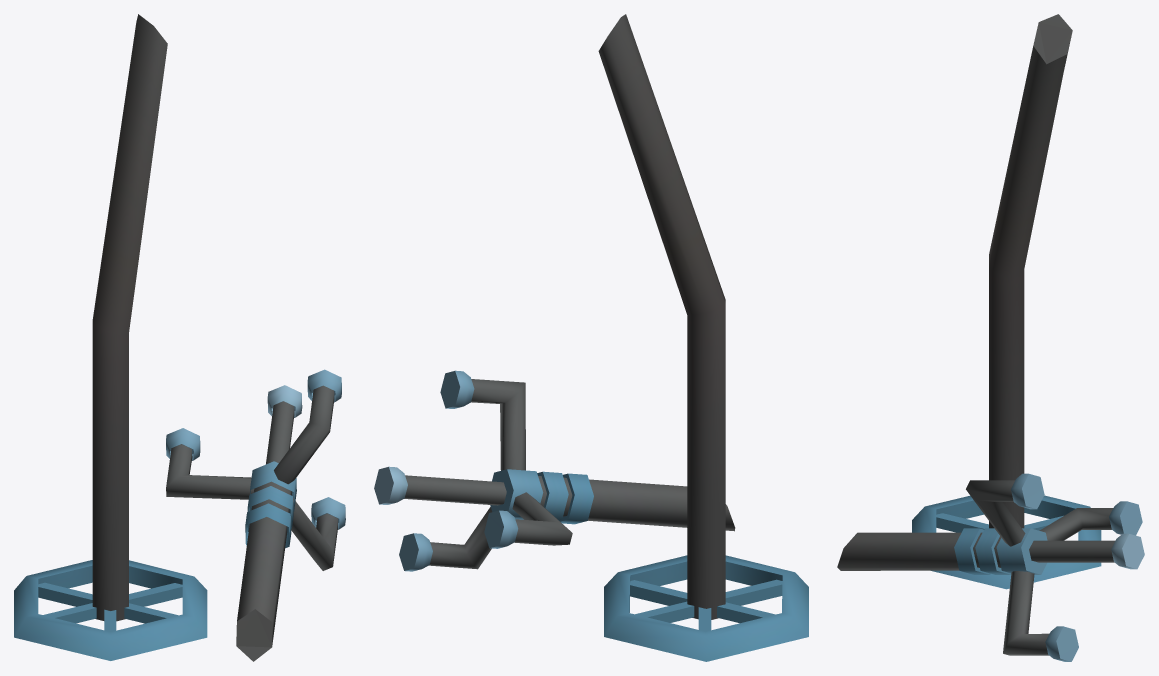
Rendered from Candle_Stand_03.fbx.
3 views of the same model, side by side, from view 1: azimuth 30°, elevation 25°; view 2: azimuth 150°, elevation 25°; view 3: azimuth 270°, elevation 25° (orthographic). The views are drawn at different scales.
Visible parts, largest first — view 1: Candle_Stand_03.001; view 2: Candle_Stand_03.001; view 3: Candle_Stand_03.001.
Boxes of the visible parts, x1,y1,x2,y2 form: Candle_Stand_03.001: [14, 14, 345, 661]; Candle_Stand_03.001: [374, 14, 808, 661]; Candle_Stand_03.001: [837, 14, 1144, 661].
Bounding box in the file's own units: 75.72 × 116 × 57.44.
